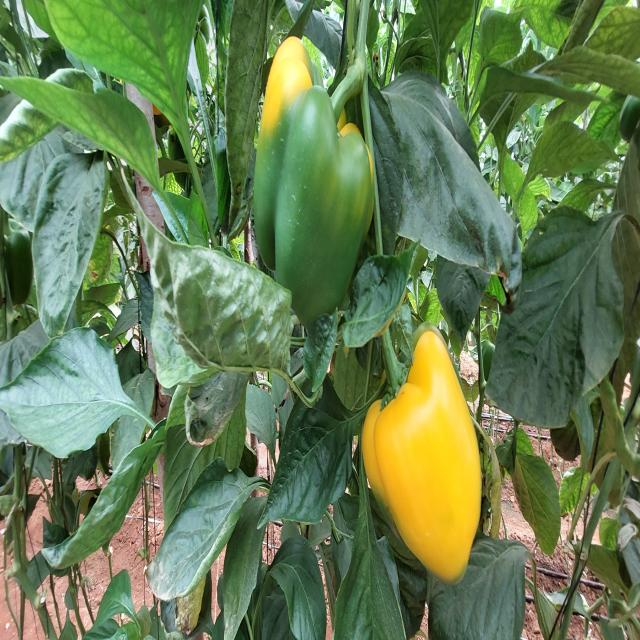Yellow-Ready-to-Harvest: (362, 327, 483, 584), (258, 15, 311, 124)
